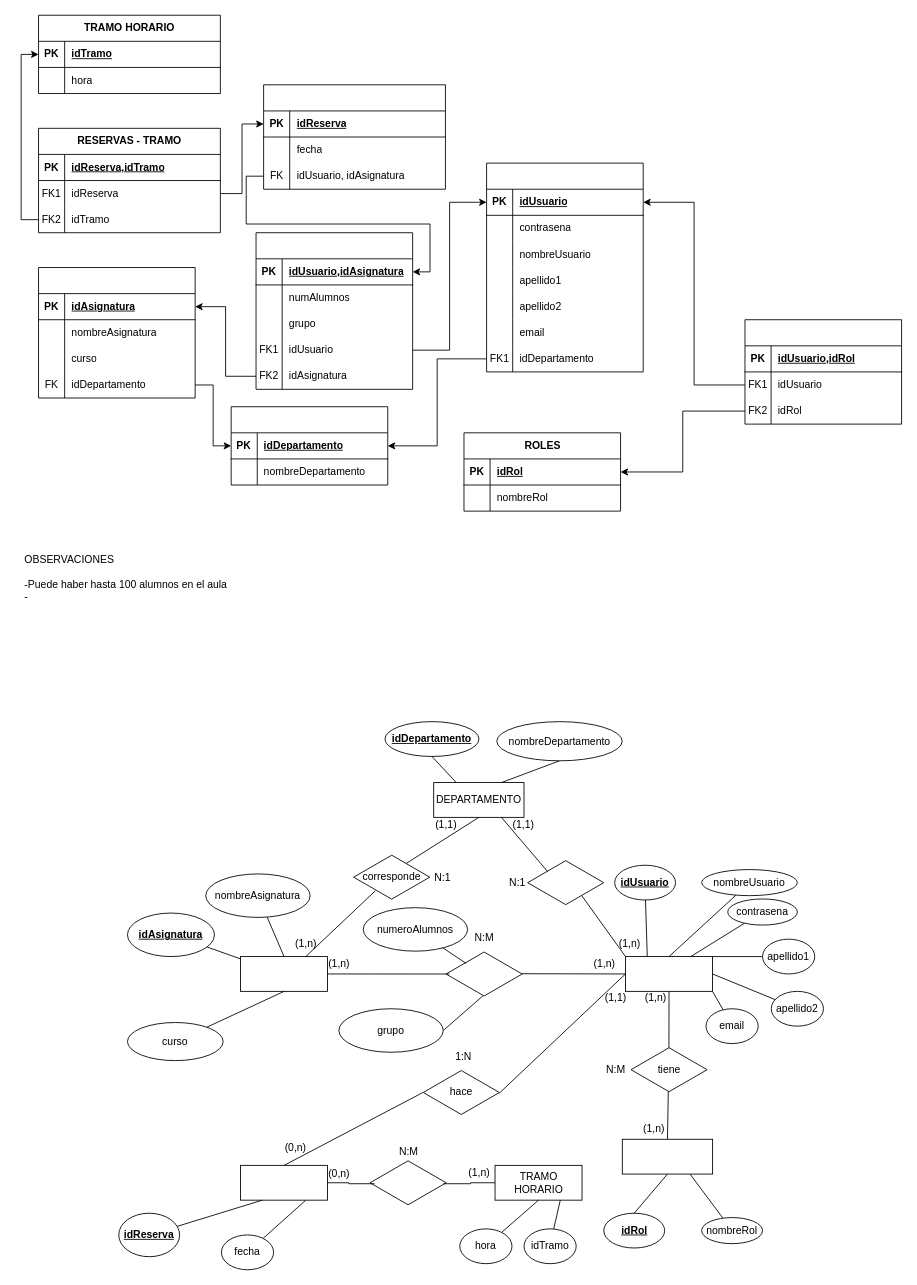
Image size: 917x1285. Some labels were removed from this diagram. Each missing label, with the box of its shape:
ASIGNATURA: (240, 956, 328, 991)
ASIGNATURAS: (38, 267, 195, 398)
DEPARTAMENTOS: (230, 406, 388, 485)
im parte: (445, 950, 522, 997)
incluye: (369, 1159, 446, 1206)
pertenece: (527, 859, 604, 905)
RESERVA: (240, 1164, 328, 1200)
RESERVAS: (263, 84, 445, 189)
ROL: (621, 1138, 713, 1174)
USUARIO: (625, 956, 713, 991)
USUARIOS: (486, 162, 643, 372)
USUARIOS - ASIGNATURAS: (255, 232, 413, 389)
USUARIOS - ROLES: (744, 319, 902, 424)
